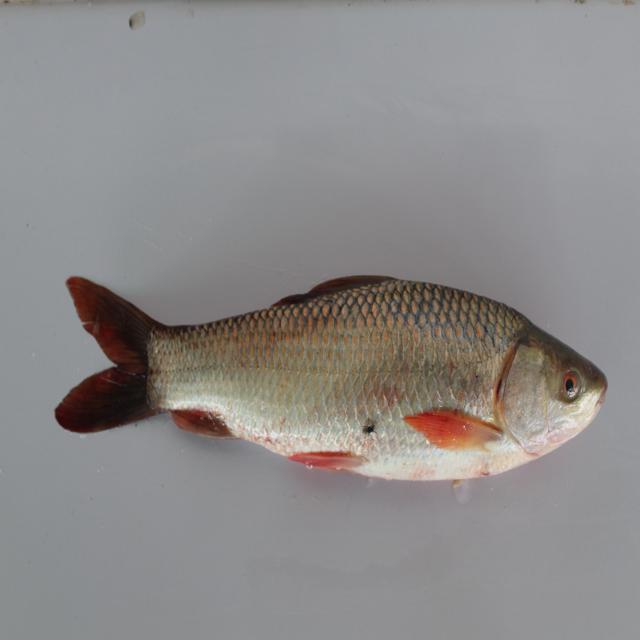Rohu: (50, 248, 610, 512)
